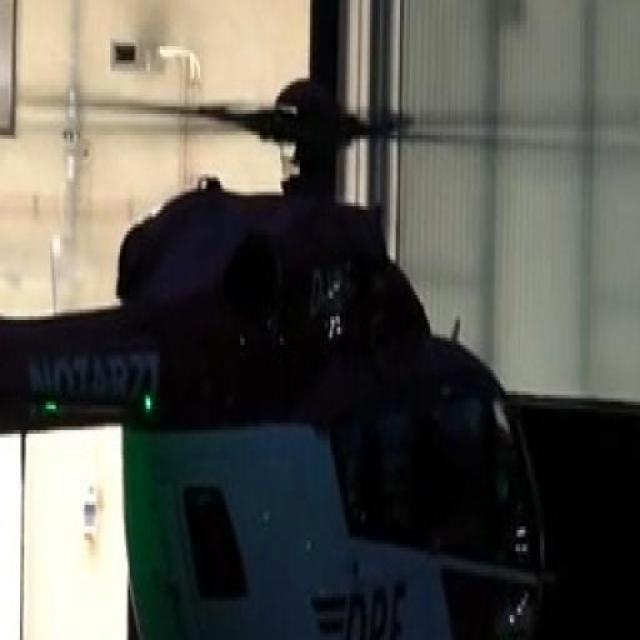drone: (0, 0, 568, 640)
